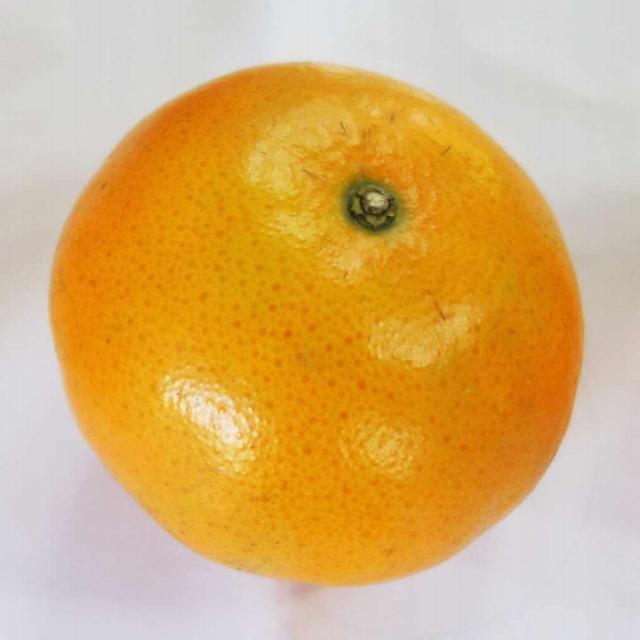Orange: (52, 63, 590, 588)
